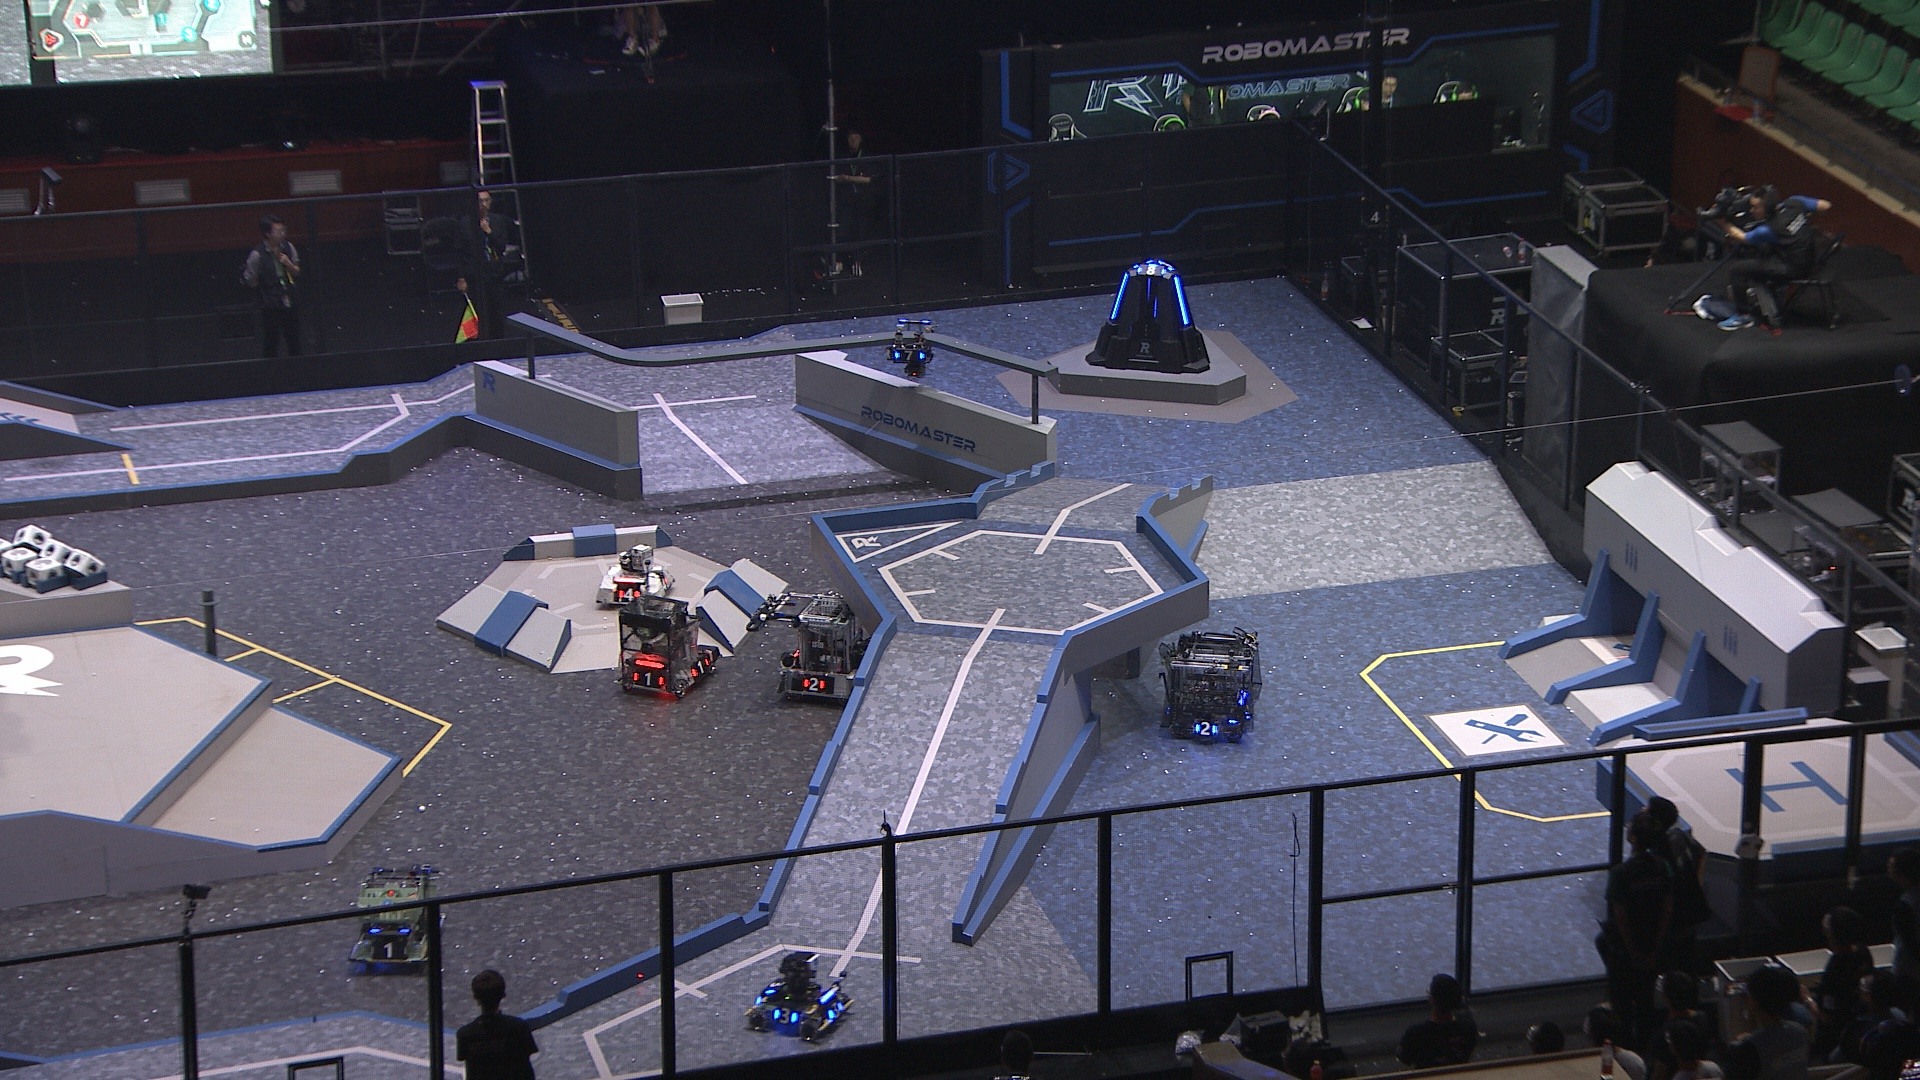armor: (1109, 272, 1130, 320), (1174, 276, 1191, 327), (368, 942, 410, 960), (632, 670, 665, 688), (773, 1007, 802, 1027), (1193, 719, 1218, 740), (1135, 262, 1168, 277), (825, 998, 845, 1022), (802, 675, 827, 694), (893, 349, 927, 363), (690, 657, 711, 676), (765, 978, 787, 997), (617, 585, 641, 603), (1150, 295, 1162, 322), (1145, 276, 1153, 301)
base: (1084, 261, 1215, 376)
car: (1155, 626, 1265, 744), (742, 951, 858, 1044), (347, 865, 448, 971), (615, 595, 717, 698), (775, 589, 866, 703), (597, 543, 675, 611)
watcher: (885, 318, 938, 382)
